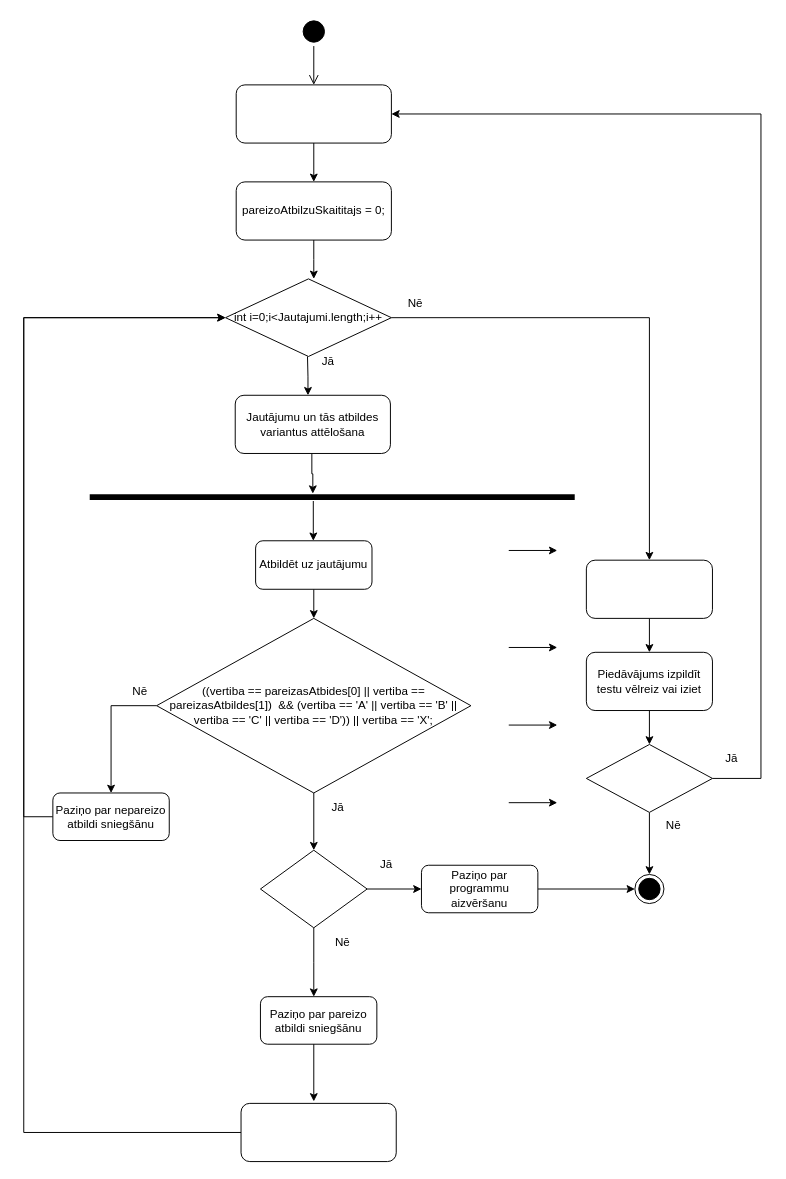
The diagram is 786 pixels wide and 1179 high, and some of its shapes have lost their labels. The shapes that lost their labels are listed below. From the top down, each one's box as (x1, y1, x2, y2) in pixels, then its label:
(235, 84, 391, 143): Programmas "Tests par divdimensiju masīviem" startēšana
(585, 559, 712, 618): Paziņojums par jautājumu skaitu un par pareizam atbildem
(585, 744, 712, 812): rezult == 0
(259, 849, 367, 928): vertiba == 'X'
(240, 1102, 396, 1162): pareizoAtbilzuSkaititajs++;
